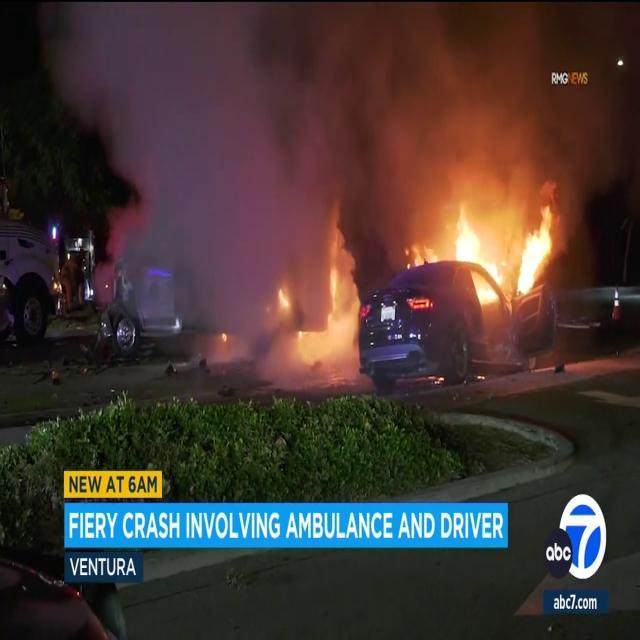Fire: (439, 192, 559, 306)
Smoke: (69, 2, 614, 236)
